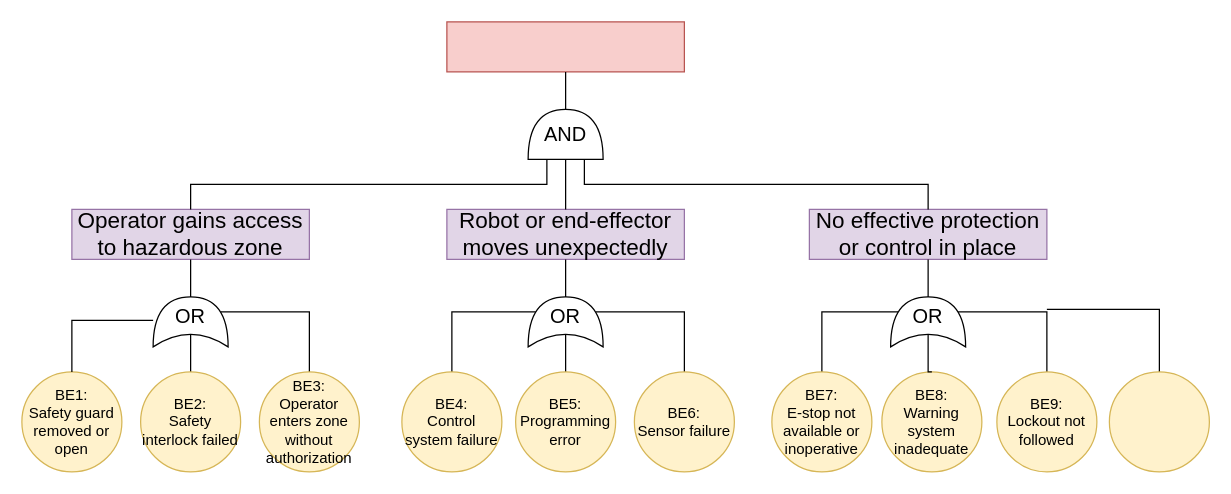
The diagram is 1231 pixels wide and 494 high, and some of its shapes have lost their labels. Here are the shapes that lost their labels. From the top down, the centre of each, then its label:
At (565,46): "Injury to the operator".
At (1158,421): "BE10: Maintenance procedure not followed".
